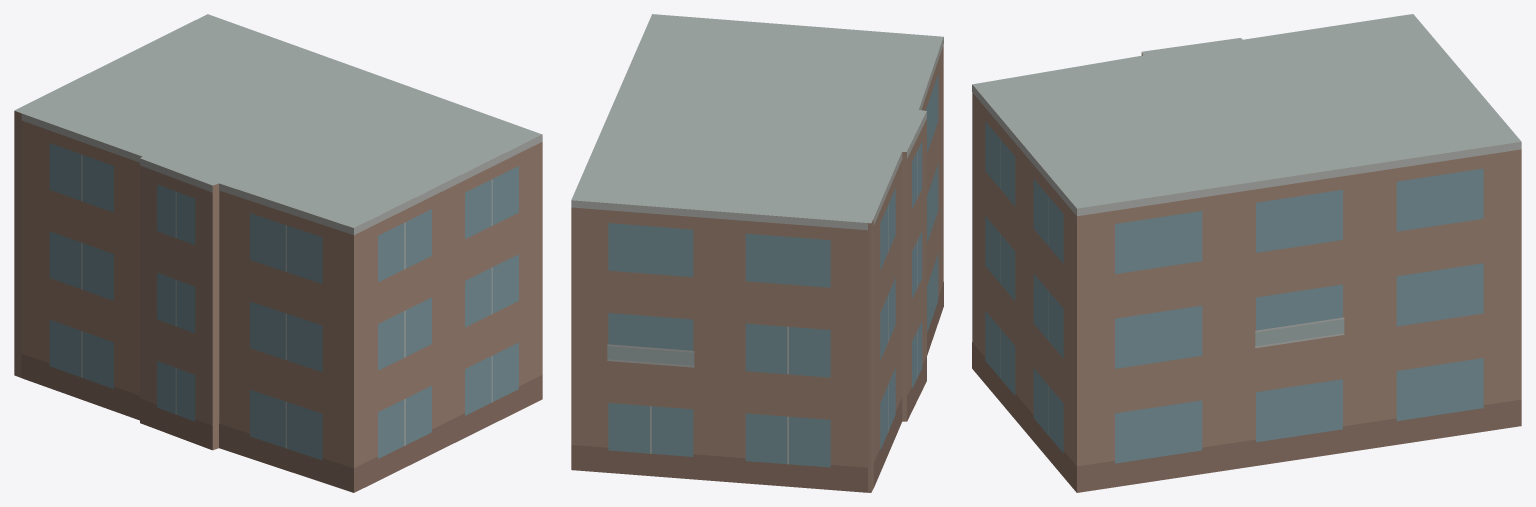
Rendered from survey-upis-32609444.glb.
The picture shows the model from 3 angles, left to right: view 1: azimuth 30°, elevation 25°; view 2: azimuth 150°, elevation 25°; view 3: azimuth 270°, elevation 25°; orthographic projection. The views are drawn at different scales.
Visible parts, largest first — view 1: survey-upis-32609444.tmp; view 2: survey-upis-32609444.tmp; view 3: survey-upis-32609444.tmp.
Boxes of the visible parts, <box> form: survey-upis-32609444.tmp: <box>14,14,542,492</box>; survey-upis-32609444.tmp: <box>571,14,943,492</box>; survey-upis-32609444.tmp: <box>972,14,1521,492</box>.
Bounding box in the file's own units: 13.46 × 9.15 × 16.05.
